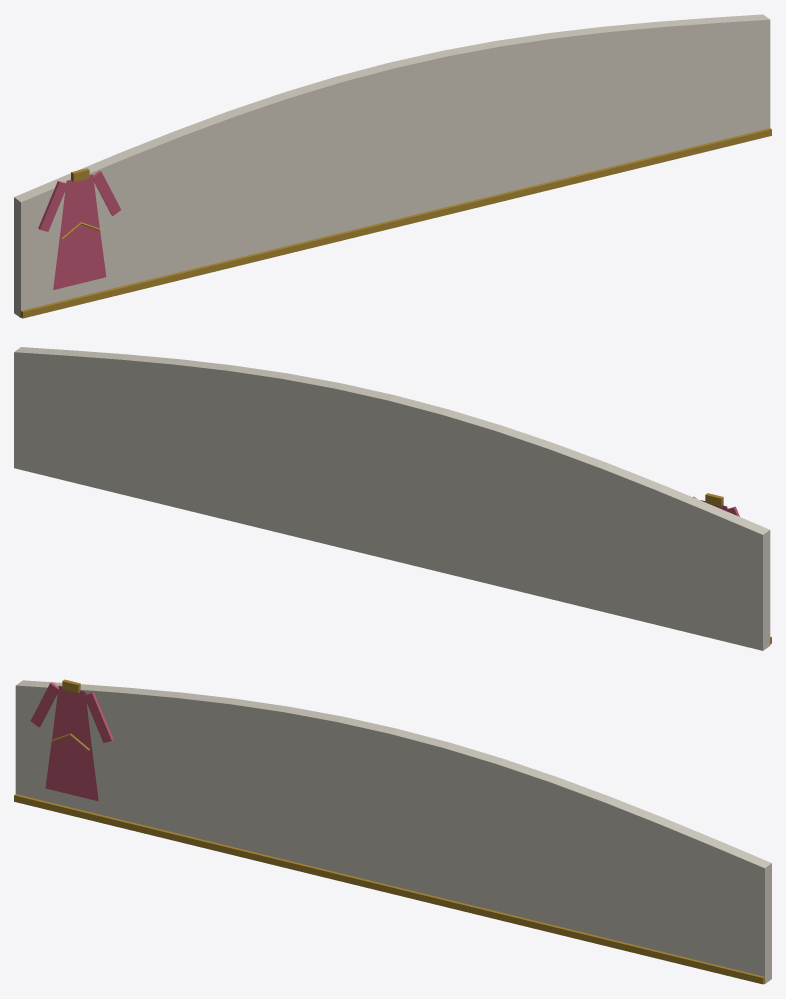
File: bang_nha_may_thanh_thao_40.glb
The picture shows the model from 3 angles, top to bottom: view 1: azimuth 30°, elevation 25°; view 2: azimuth 150°, elevation 25°; view 3: azimuth 330°, elevation 25°; orthographic projection.
Visible parts, largest first — view 1: bang_nha_may_thanh_thao_40; view 2: bang_nha_may_thanh_thao_40; view 3: bang_nha_may_thanh_thao_40.
Boxes of the visible parts, x1=… form: bang_nha_may_thanh_thao_40: x1=14, y1=14, x2=771, y2=318; bang_nha_may_thanh_thao_40: x1=14, y1=347, x2=771, y2=650; bang_nha_may_thanh_thao_40: x1=14, y1=679, x2=771, y2=984.
Size of the model in its own units: 3.65 by 0.74 by 0.085.
